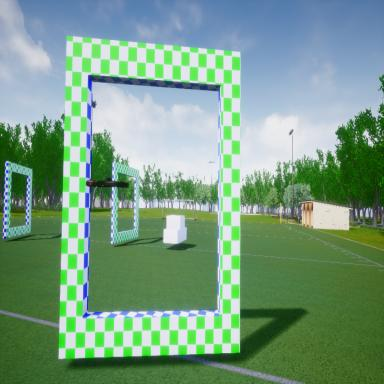gate: (58, 25, 244, 364), (110, 157, 142, 246), (2, 157, 33, 246)
